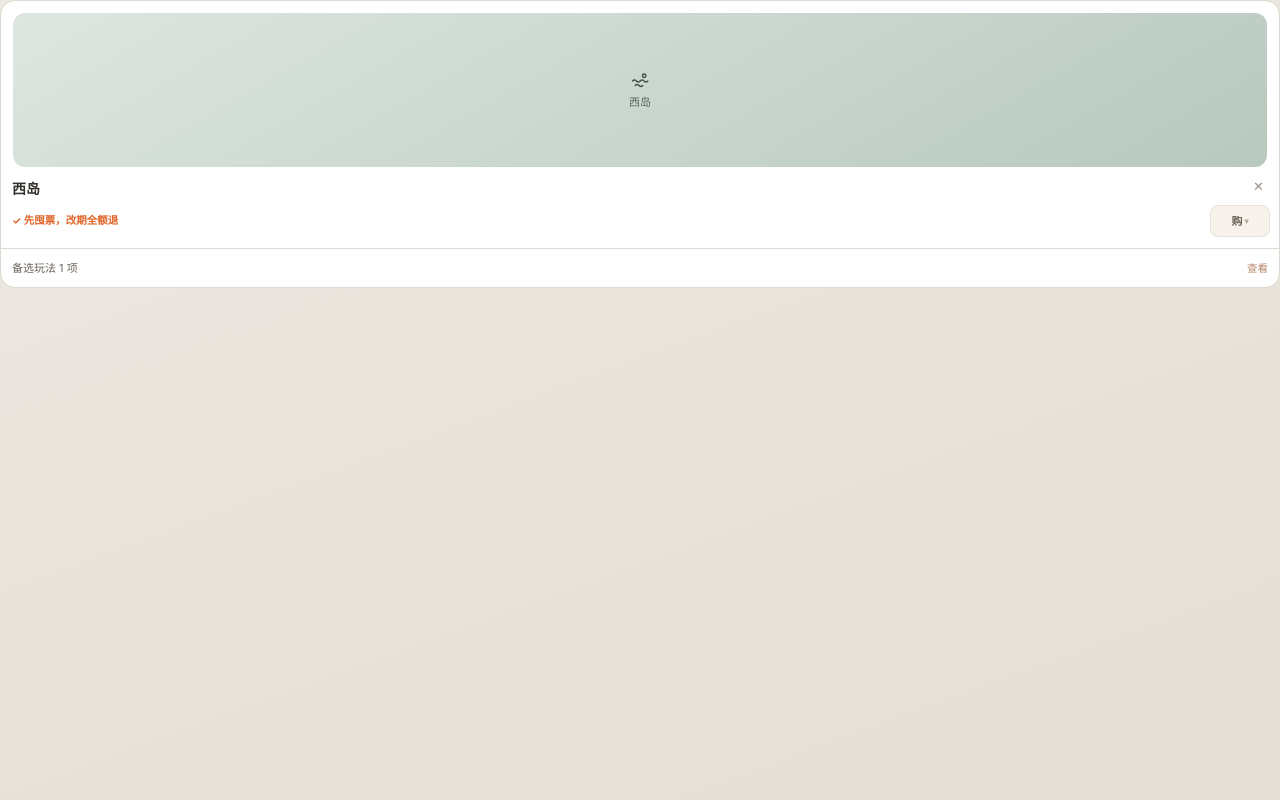
it: VisitCard 岛内小行程空态（任务 176） › alternate 备选玩法不误算为已排内部行程：仅备选时仍隐藏岛内小行程
Check: the element with class "reserve-block" is shown, box [1,248,1279,287]
Check: the text "备选玩法 1 项" is shown, box [12,259,78,275]
Click the button with class "reserve-toggle" at (36, 268), box [12,257,1268,277]
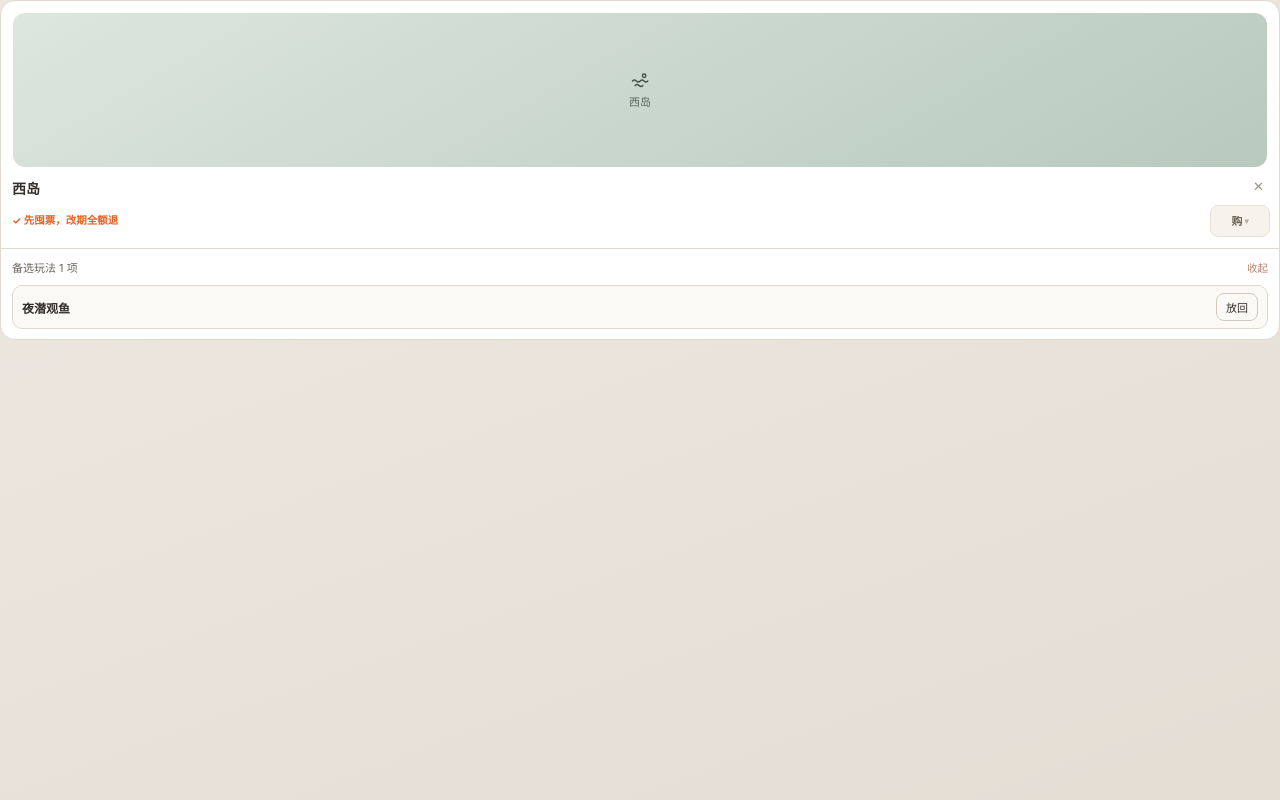
Check: the element with class "reserve-list" is shown, box [12,285,1268,329]
